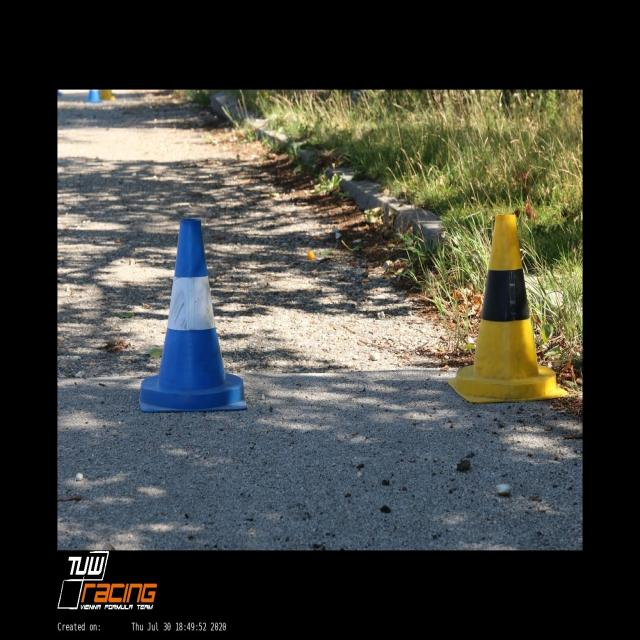blue_cone: (139, 219, 247, 411)
yellow_cone: (446, 214, 570, 403)
